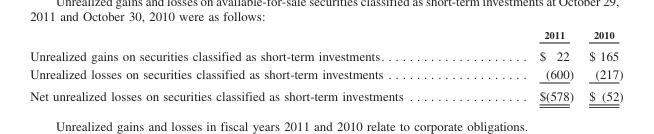table: (29, 28, 622, 103)
table column: (29, 28, 470, 103), (470, 28, 580, 103), (580, 28, 622, 103)
table column header: (29, 28, 622, 44)
table row: (29, 44, 622, 65), (29, 65, 622, 85), (29, 85, 622, 103), (29, 28, 622, 44)
